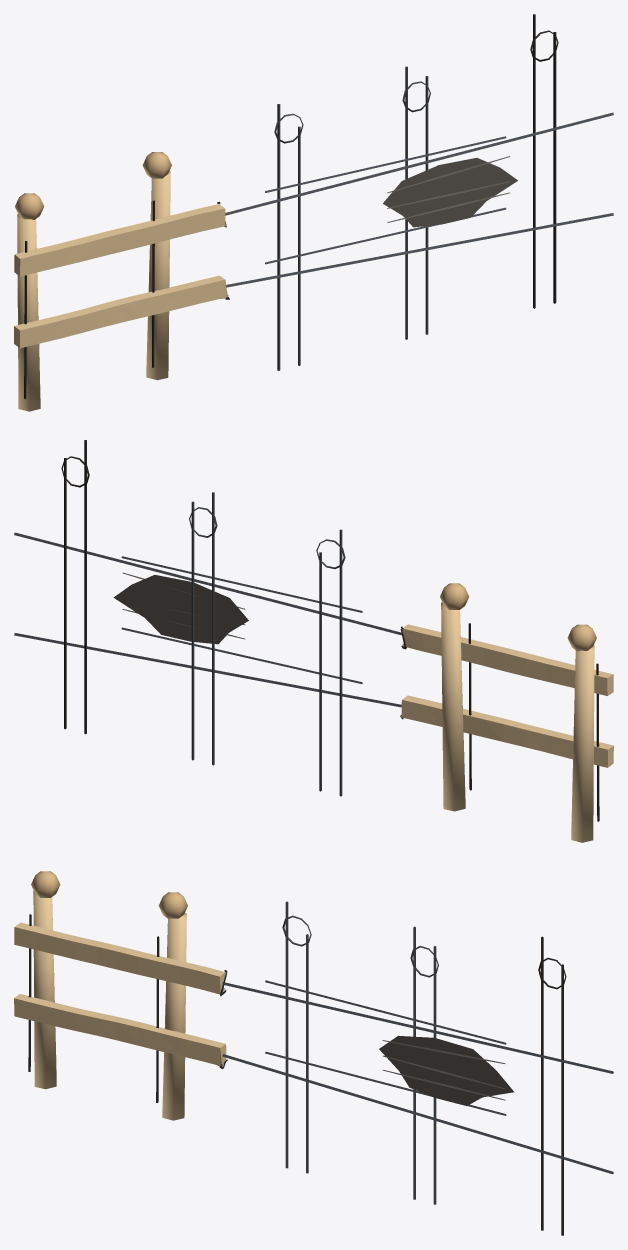
Rendered from Sketch_Fence_2.fbx.
The picture shows the model from 3 angles, top to bottom: view 1: azimuth 30°, elevation 25°; view 2: azimuth 150°, elevation 25°; view 3: azimuth 330°, elevation 25°; orthographic projection.
Parts seen in each view (by area): view 1: Solid, Lines; view 2: Solid, Lines; view 3: Solid, Lines.
Boxes of the visible parts, <box> form: Solid: <box>14,152,228,411</box>; Lines: <box>24,14,613,398</box>; Solid: <box>401,583,613,842</box>; Lines: <box>14,440,599,821</box>; Solid: <box>14,871,226,1120</box>; Lines: <box>28,901,613,1235</box>.
Size of the model in its own units: 3.5 by 1.65 by 0.1956.
